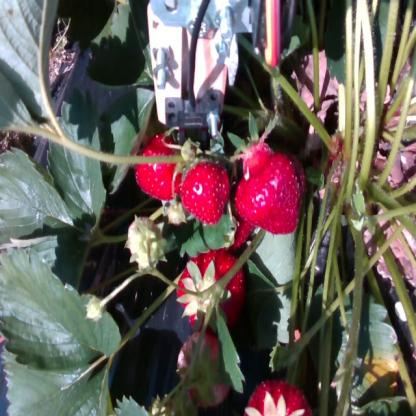ripe: (236, 143, 312, 231), (179, 251, 247, 324), (136, 136, 194, 200), (181, 157, 232, 225), (180, 340, 232, 403), (247, 377, 309, 416)
unripe: (127, 217, 164, 270)
